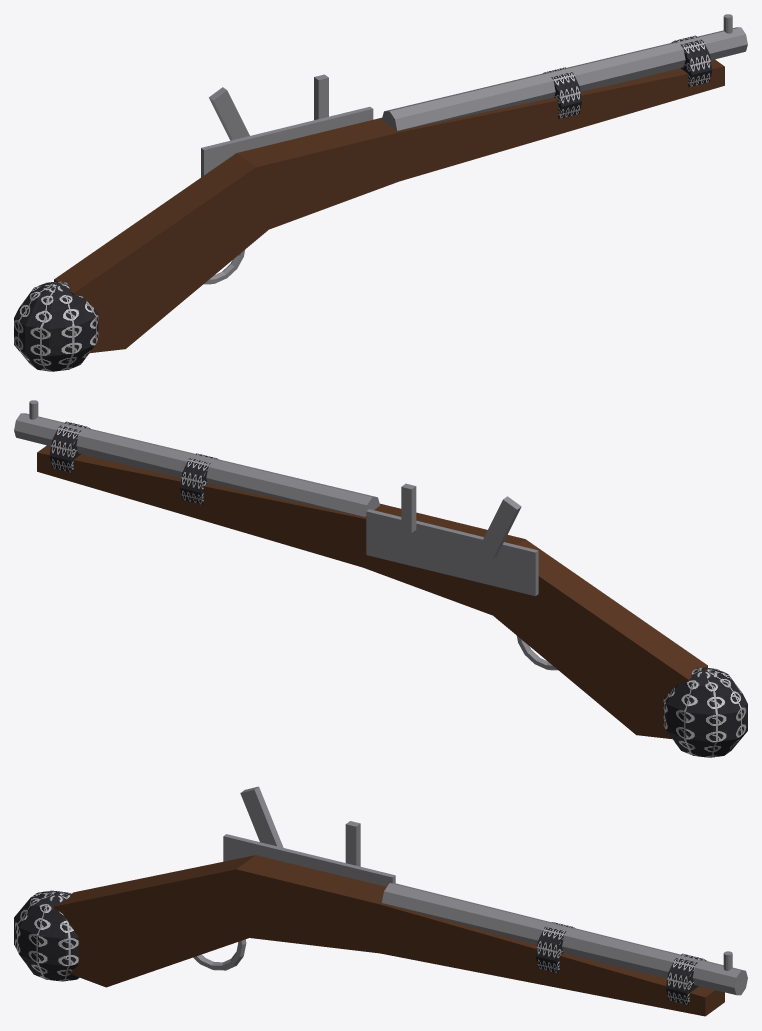
Rendered from flintlock_pistol.glb.
3 renders of one model, top to bottom at view 1: azimuth 30°, elevation 25°; view 2: azimuth 150°, elevation 25°; view 3: azimuth 330°, elevation 25°, orthographic.
Parts seen in each view (by area): view 1: Flintlock_Pistol; view 2: Flintlock_Pistol; view 3: Flintlock_Pistol.
Boxes of the visible parts, x1,y1,x2,y2 form: Flintlock_Pistol: (14,14,747,371); Flintlock_Pistol: (14,400,747,757); Flintlock_Pistol: (14,786,747,1016).
Size of the model in its own units: 0.5539 by 0.1649 by 0.0487.
Materials: 3 (2 with a texture image).
